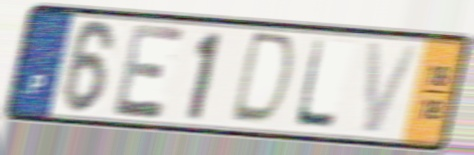1: (185, 28, 226, 123)
6: (57, 18, 122, 117)
D: (226, 29, 300, 131)
E: (110, 21, 189, 122)
L: (290, 36, 340, 133)
V: (362, 39, 424, 137)
